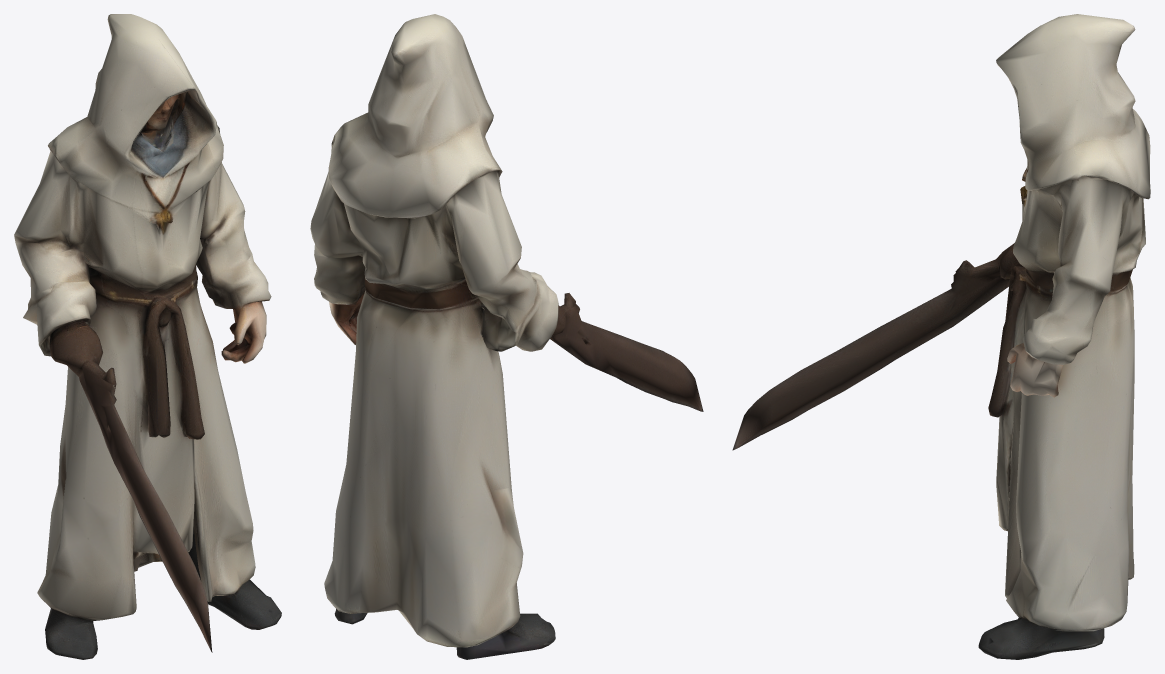
File: npc_priest.glb
3 views of the same model, side by side, from view 1: azimuth 30°, elevation 25°; view 2: azimuth 150°, elevation 25°; view 3: azimuth 270°, elevation 25° (orthographic). The views are drawn at different scales.
Bounding box in the file's own units: 0.7973 × 2 × 1.28.
1 material, 1 textured.
